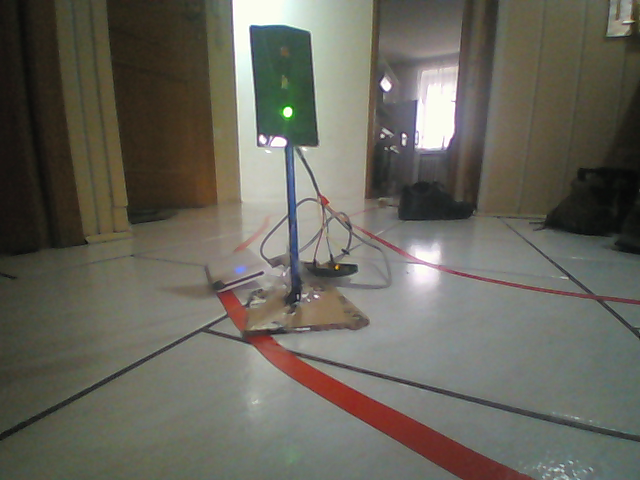green_sign: (247, 19, 321, 147)
